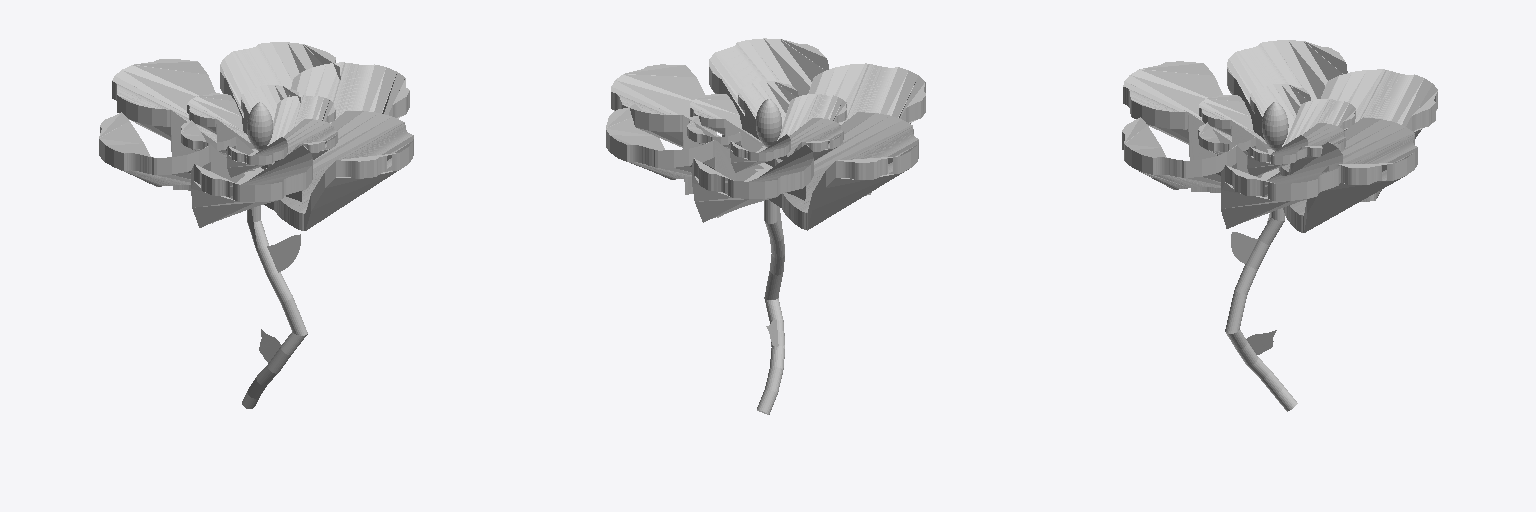
File: Flower.obj
3 views of the same model, side by side, from view 1: azimuth 30°, elevation 25°; view 2: azimuth 150°, elevation 25°; view 3: azimuth 270°, elevation 25° (orthographic).
Visible parts, largest first — view 1: Mesh2 OuterShell flower1 Model, Mesh3 Component_1_1 flower1 Model, Mesh1 sEED1 Model; view 2: Mesh2 OuterShell flower1 Model, Mesh3 Component_1_1 flower1 Model, Mesh1 sEED1 Model; view 3: Mesh2 OuterShell flower1 Model, Mesh3 Component_1_1 flower1 Model, Mesh1 sEED1 Model.
Boxes of the visible parts, x1=… form: Mesh2 OuterShell flower1 Model: x1=99, y1=42, x2=413, y2=230; Mesh3 Component_1_1 flower1 Model: x1=242, y1=205, x2=307, y2=408; Mesh1 sEED1 Model: x1=247, y1=102, x2=272, y2=150; Mesh2 OuterShell flower1 Model: x1=606, y1=38, x2=925, y2=230; Mesh3 Component_1_1 flower1 Model: x1=757, y1=200, x2=784, y2=414; Mesh1 sEED1 Model: x1=756, y1=99, x2=781, y2=147; Mesh2 OuterShell flower1 Model: x1=1122, y1=40, x2=1437, y2=232; Mesh3 Component_1_1 flower1 Model: x1=1225, y1=208, x2=1297, y2=411; Mesh1 sEED1 Model: x1=1262, y1=102, x2=1288, y2=150.
Bounding box in the file's own units: 29.5 × 29.77 × 27.44.